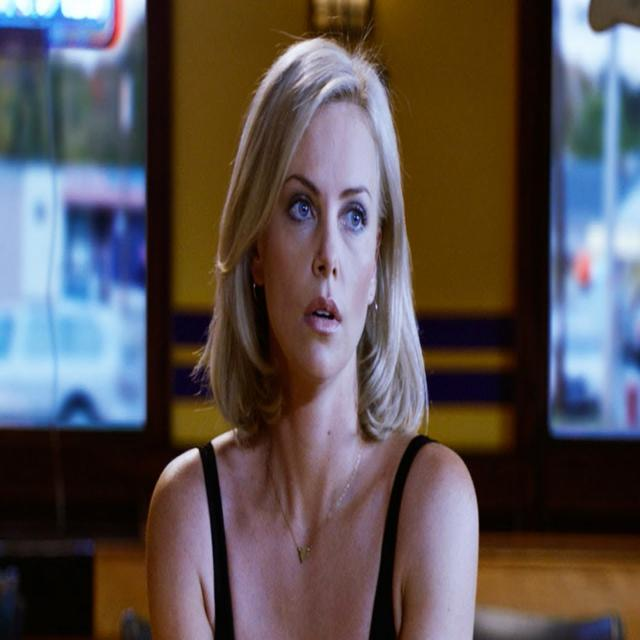adult: (142, 39, 481, 640)
